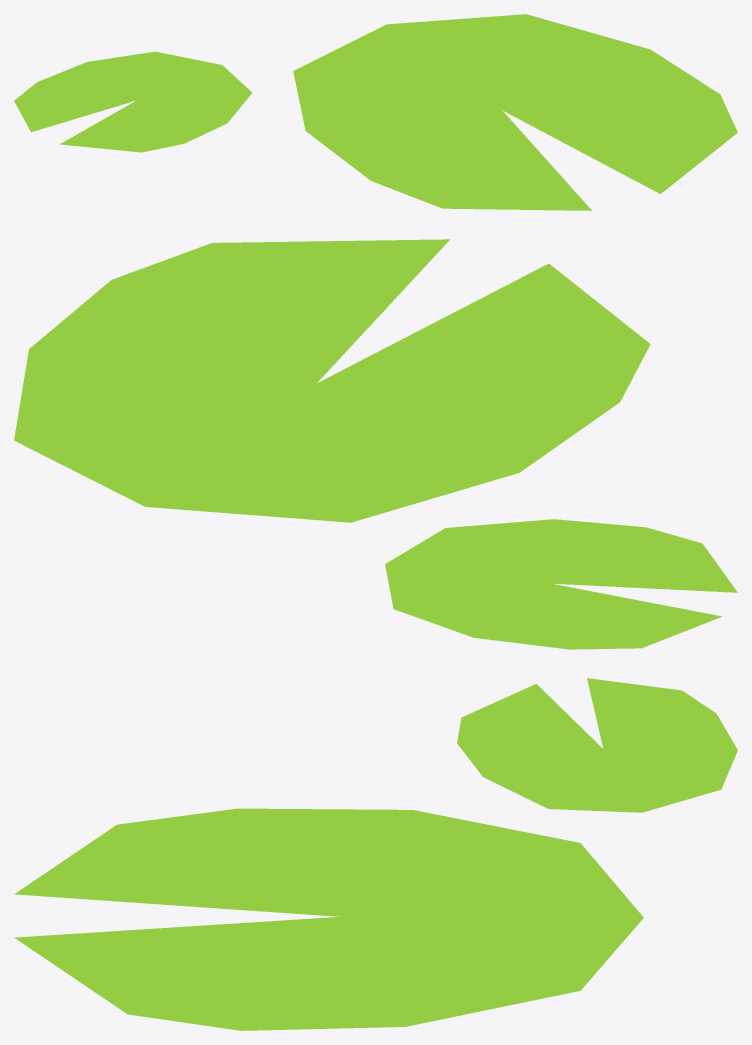
Rendered from LilyPad2_Mod.fbx.
The picture shows the model from 3 angles, top to bottom: view 1: azimuth 30°, elevation 25°; view 2: azimuth 150°, elevation 25°; view 3: azimuth 270°, elevation 25°; orthographic projection. The views are drawn at different scales.
Parts seen in each view (by area): view 1: Plane.001; view 2: Plane.001; view 3: Plane.001.
Part boxes in pixels (<box>): Plane.001: <box>14,14,737,210</box>; Plane.001: <box>14,239,737,649</box>; Plane.001: <box>14,678,737,1030</box>.
Size of the model in its own units: 291 by 0.1132 by 253.
